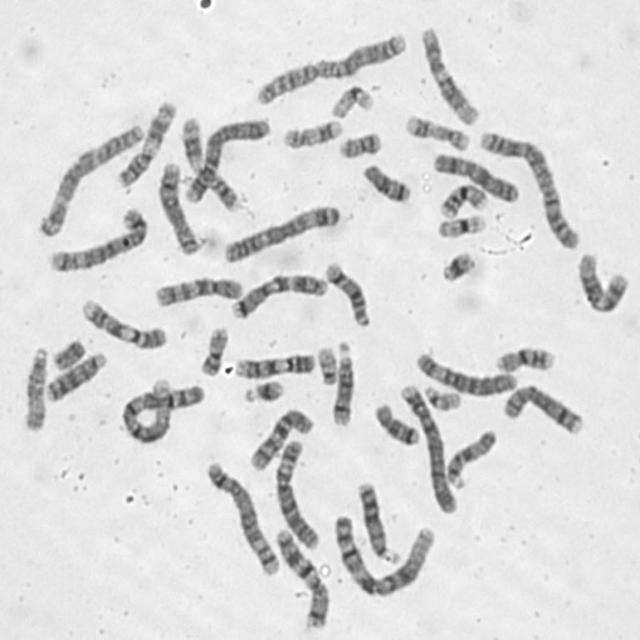A1: (330, 510, 438, 600), (118, 378, 207, 445)
A2: (476, 126, 583, 252), (252, 28, 408, 106)
A3: (35, 120, 145, 238), (220, 201, 343, 265)
B4: (180, 113, 272, 206), (397, 380, 459, 515)
B5: (204, 457, 282, 577), (45, 205, 150, 274)
C10: (245, 405, 314, 474), (152, 272, 245, 308)
C11: (178, 117, 241, 215), (114, 97, 178, 188)
C12: (416, 23, 479, 127), (574, 247, 628, 317)
C6: (272, 435, 322, 551), (412, 348, 518, 398)
C7: (272, 524, 331, 631), (226, 270, 330, 322)
C8: (500, 380, 586, 437), (156, 158, 201, 256)
C9: (79, 295, 168, 352), (232, 349, 317, 382)
D13: (354, 478, 398, 564), (42, 348, 108, 404)
D14: (321, 258, 372, 330), (328, 337, 356, 430)
D15: (442, 426, 498, 490), (21, 342, 50, 433)
E16: (436, 180, 489, 220), (492, 342, 557, 374)
E17: (402, 111, 472, 153), (279, 117, 344, 151)
E18: (370, 398, 421, 448), (360, 160, 413, 205)
F19: (328, 82, 376, 122), (433, 211, 489, 240)
F20: (196, 324, 230, 378), (335, 129, 383, 159)
G21: (436, 248, 479, 284), (240, 375, 287, 406)
G22: (421, 381, 463, 412), (314, 343, 338, 386)
X: (429, 149, 522, 205)
Y: (49, 336, 86, 372)
